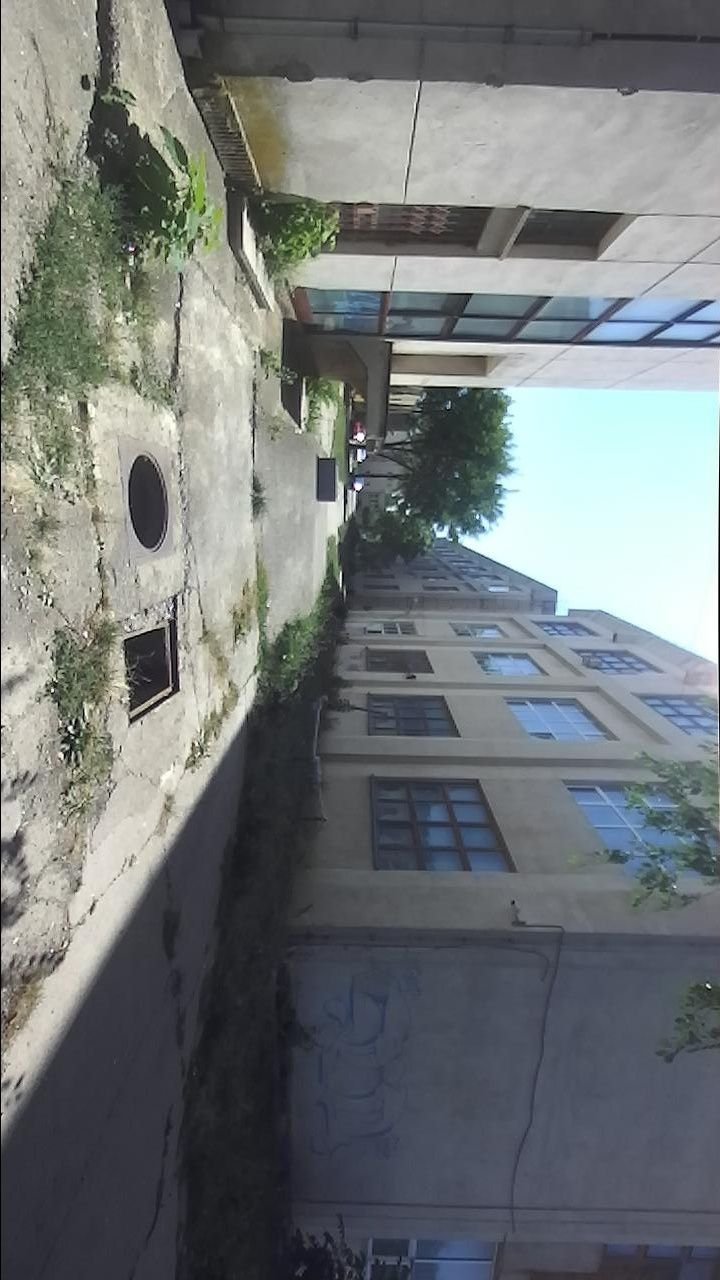drain: (118, 609, 183, 730), (123, 446, 172, 558)
